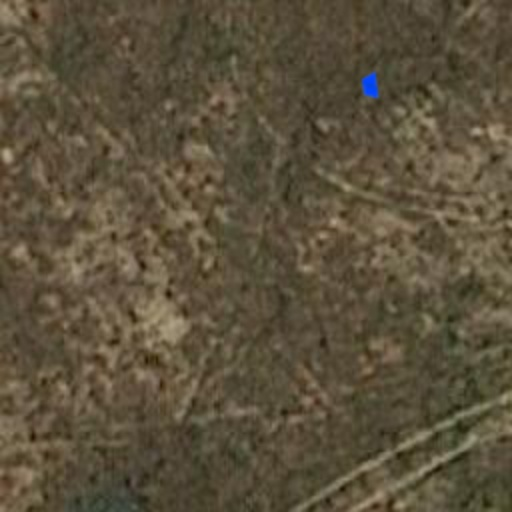trapezoid: (354, 70, 386, 102)
